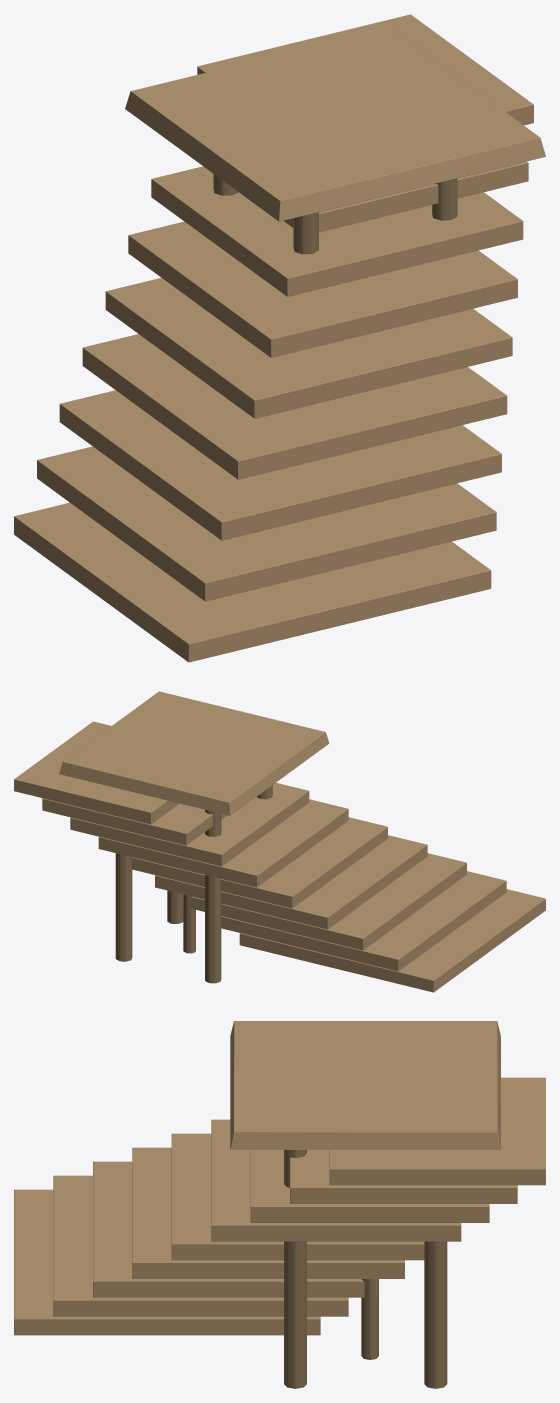
Rendered from BD_ramp_corner.fbx.
3 views of the same model, one above another, from view 1: azimuth 30°, elevation 25°; view 2: azimuth 150°, elevation 25°; view 3: azimuth 270°, elevation 25° (orthographic). The views are drawn at different scales.
Parts seen in each view (by area): view 1: BD_ramp_corner; view 2: BD_ramp_corner; view 3: BD_ramp_corner.
Part boxes in pixels (x1,y1,x2,y2): BD_ramp_corner: [14, 14, 545, 662]; BD_ramp_corner: [14, 691, 545, 992]; BD_ramp_corner: [14, 1021, 545, 1388].
Size of the model in its own units: 2.95 by 1.7 by 2.95.
